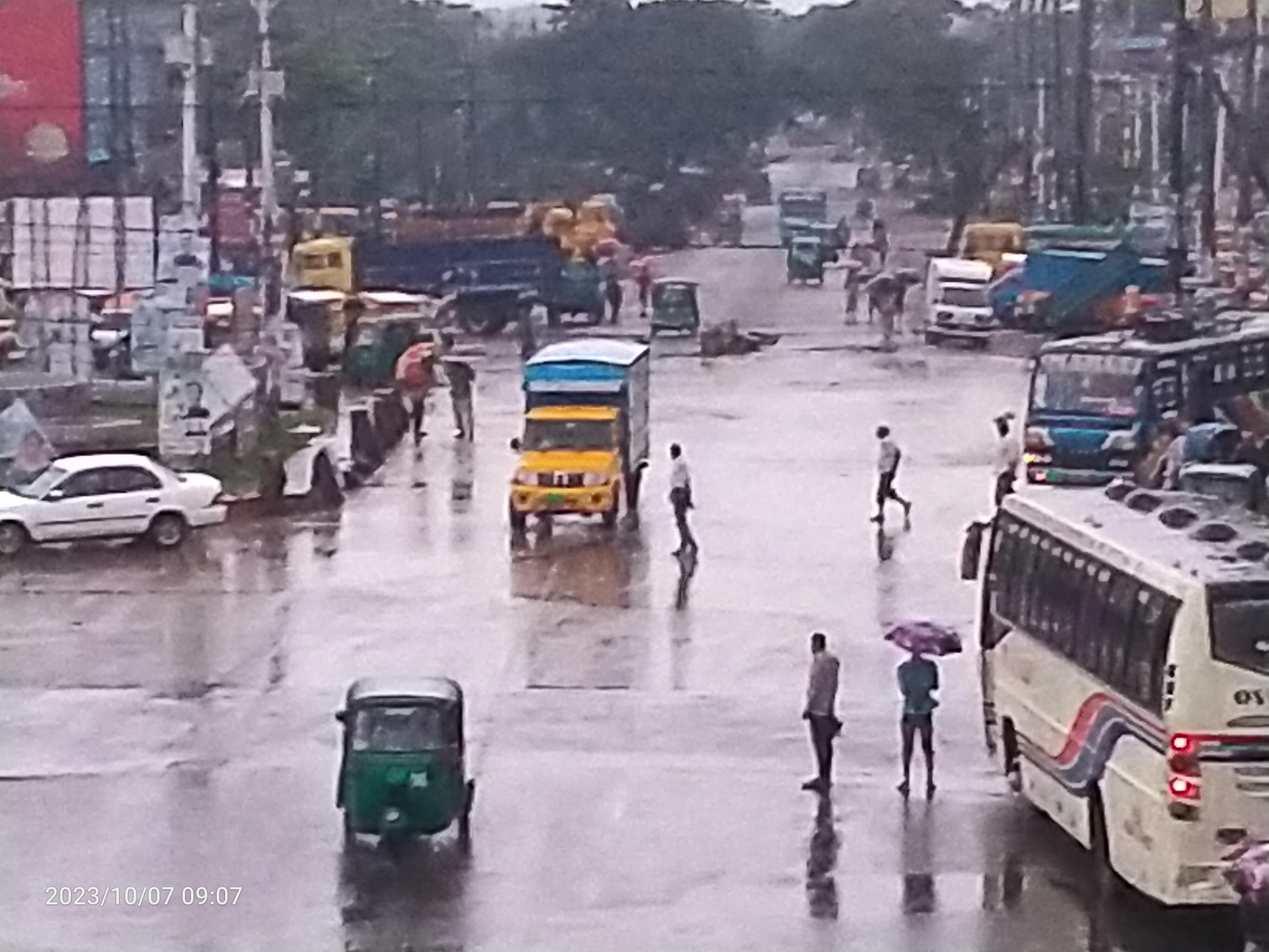Bus: (956, 453, 1269, 912), (758, 172, 838, 249)
Car: (0, 430, 246, 583), (905, 237, 1014, 355)
Truck: (492, 319, 669, 559), (275, 210, 563, 329), (944, 207, 1187, 285)
